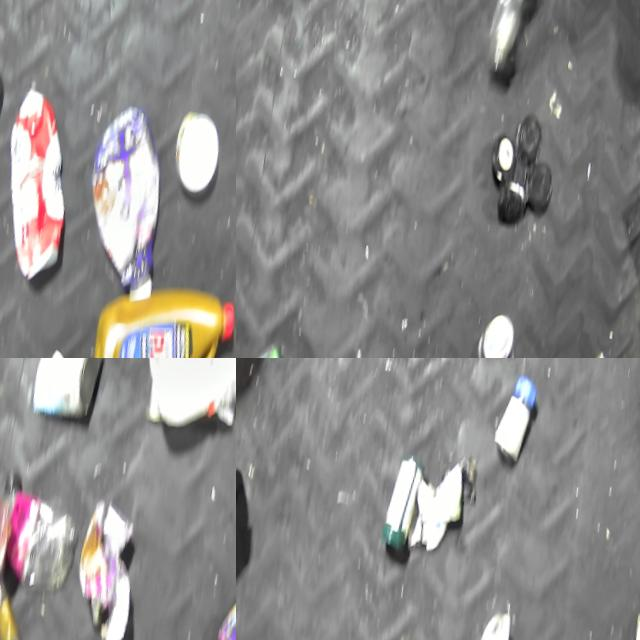can: (24, 358, 112, 429), (461, 316, 520, 358)
milk_jug: (129, 358, 236, 450)
non_white_jug: (68, 113, 176, 314), (0, 78, 85, 283), (71, 283, 236, 358)
plastic_bottle: (0, 465, 86, 605), (617, 0, 640, 141)
